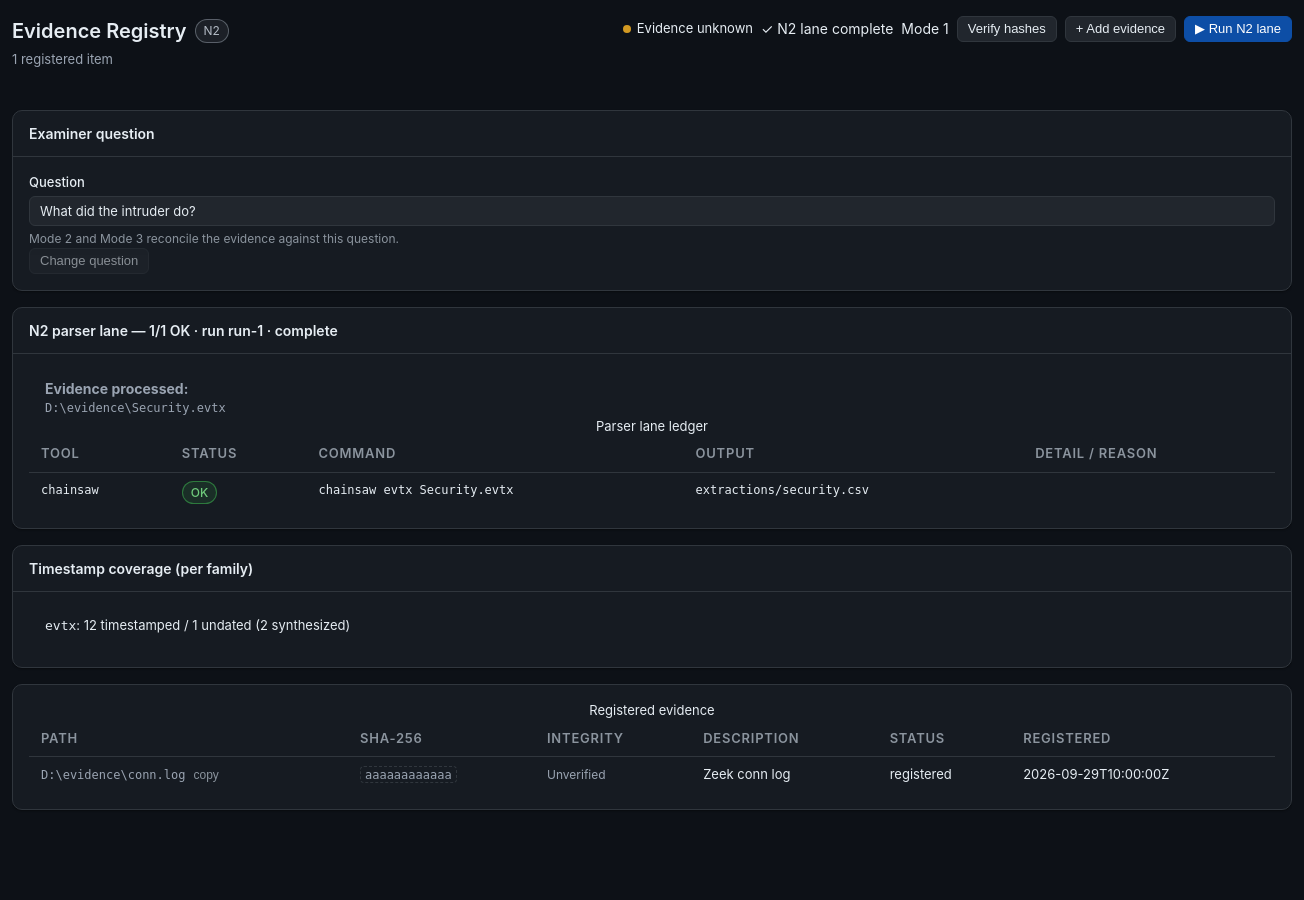
Test: Evidence (migrated) › says all-verified and says mismatch - never a bare colour
Expected: the text "chainsaw" is shown, [29,472,170,512]
Step 1. Click the button "Verify hashes" → (1007, 29), box [957,16,1057,42]
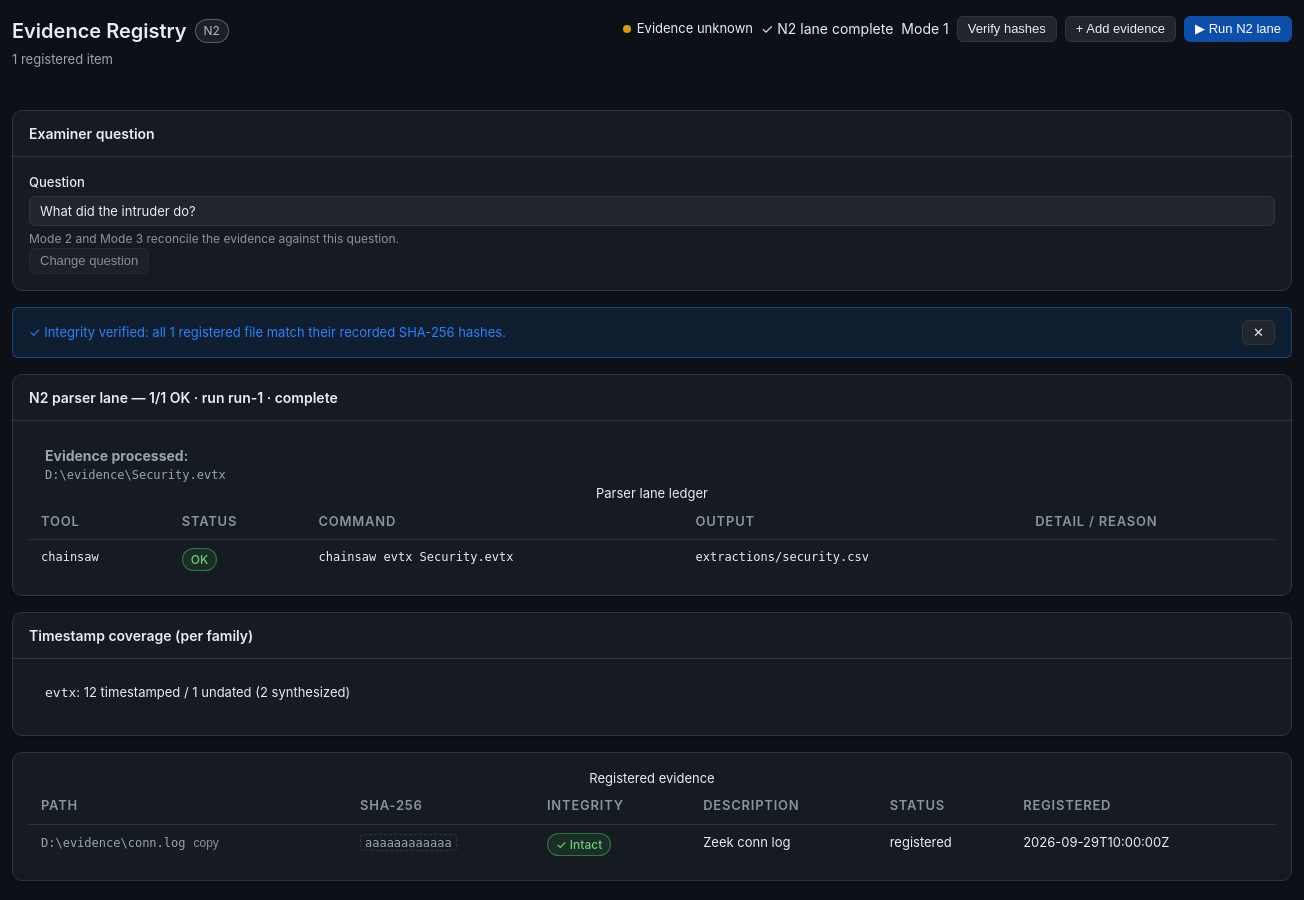
Expected: the message with test id "evidence-verify-verdict" does not show "mismatch", [12,307,1292,358]
Now the message with test id "evidence-verify-verdict" shows "Integrity verified: all 1 registered file", box [29,324,506,340]
